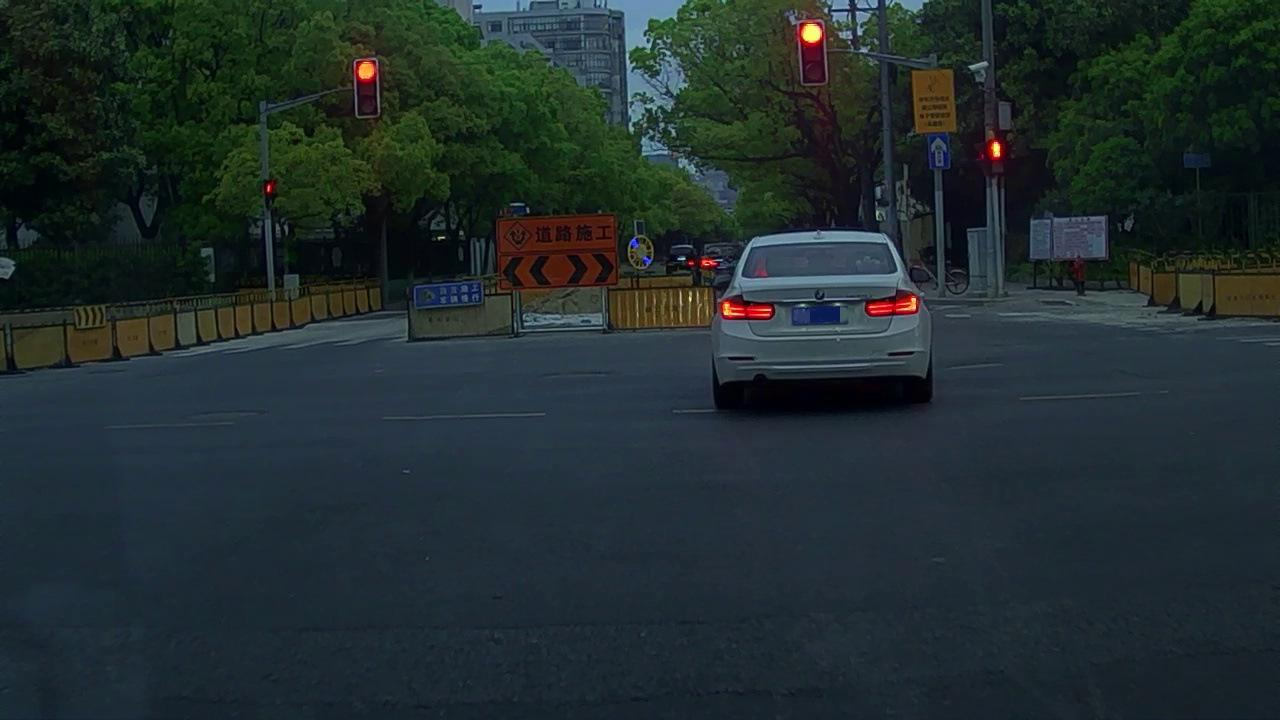traffic_light: (800, 22, 829, 84), (355, 57, 381, 117)
